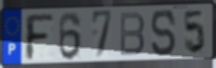5: (182, 9, 207, 56)
6: (57, 11, 83, 63)
7: (90, 9, 113, 62)
B: (119, 11, 147, 58)
F: (23, 13, 56, 63)
S: (149, 8, 178, 59)
